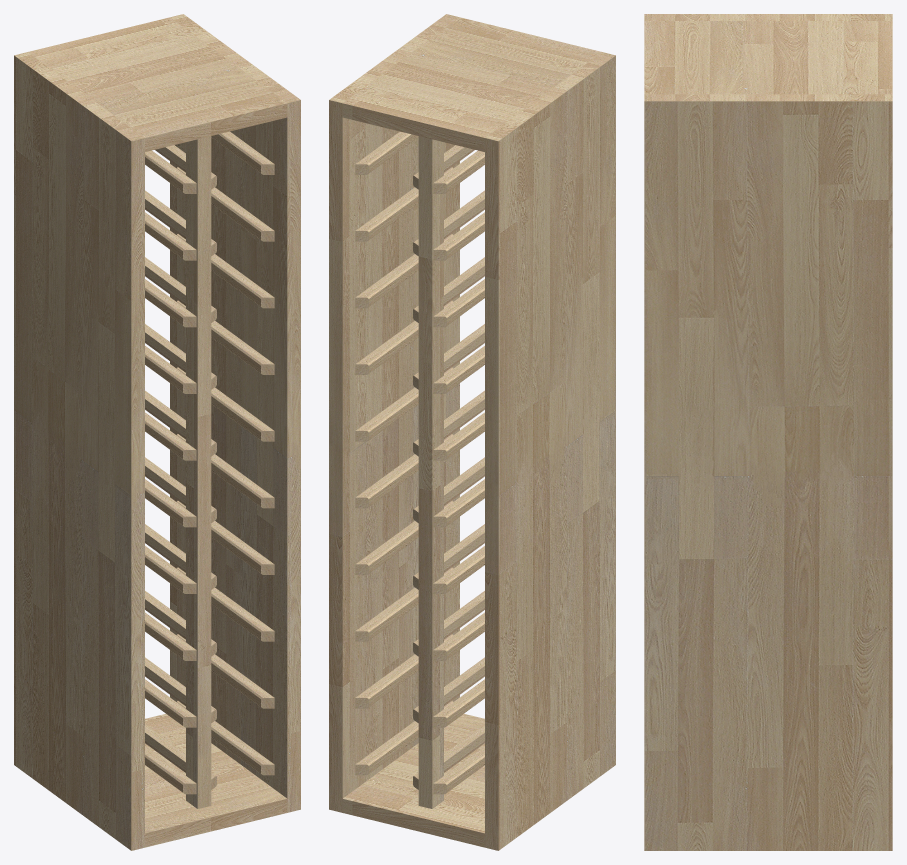
3 views of the same model, side by side, from view 1: azimuth 30°, elevation 25°; view 2: azimuth 150°, elevation 25°; view 3: azimuth 270°, elevation 25° (orthographic). The views are drawn at different scales.
Visible parts, largest first — view 1: Korpus bund_top.015; view 2: Korpus bund_top.015; view 3: Korpus bund_top.015.
Part boxes in pixels (x1,y1,x2,y2): Korpus bund_top.015: (14, 14, 300, 850); Korpus bund_top.015: (329, 14, 615, 850); Korpus bund_top.015: (644, 14, 892, 850).
Size of the model in its own units: 0.25 by 1 by 0.3.
Materials: 1 (1 with a texture image).
